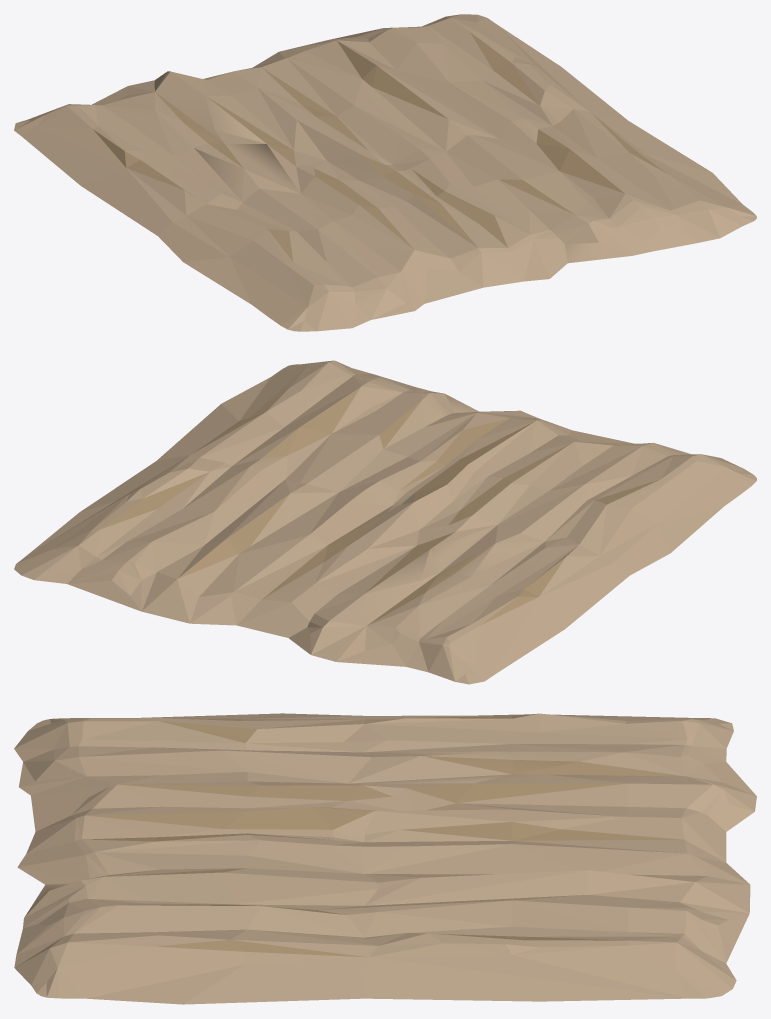
File: SM_Env_FarmRows_02.fbx
The picture shows the model from 3 angles, top to bottom: view 1: azimuth 30°, elevation 25°; view 2: azimuth 150°, elevation 25°; view 3: azimuth 270°, elevation 25°; orthographic projection. The views are drawn at different scales.
Parts seen in each view (by area): view 1: SM_Env_FarmRows_02; view 2: SM_Env_FarmRows_02; view 3: SM_Env_FarmRows_02.
Boxes of the visible parts, <box> form: SM_Env_FarmRows_02: <box>14,14,756,331</box>; SM_Env_FarmRows_02: <box>14,360,756,684</box>; SM_Env_FarmRows_02: <box>14,713,756,1004</box>.
Bounding box in the file's own units: 11.59 × 0.6235 × 12.5.
